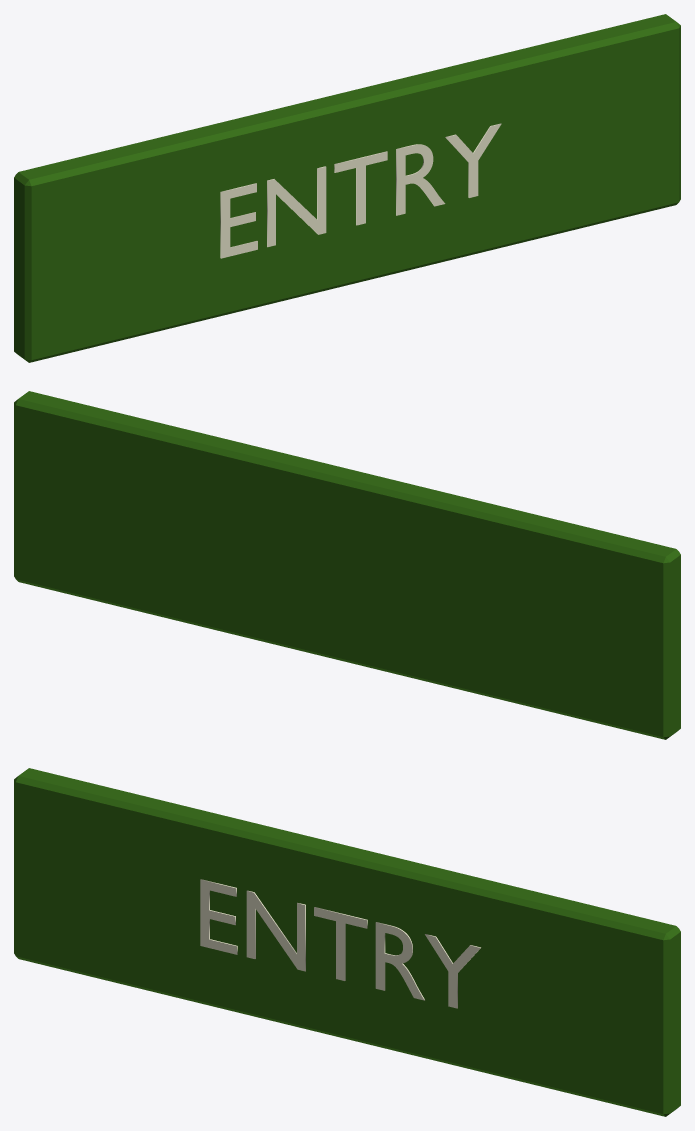
Rendered from EntrySign.fbx.
The picture shows the model from 3 angles, top to bottom: view 1: azimuth 30°, elevation 25°; view 2: azimuth 150°, elevation 25°; view 3: azimuth 330°, elevation 25°; orthographic projection.
Visible parts, largest first — view 1: EntrySign; view 2: EntrySign; view 3: EntrySign.
Boxes of the visible parts, <box> form: EntrySign: <box>14,14,680,362</box>; EntrySign: <box>14,391,680,739</box>; EntrySign: <box>14,768,680,1116</box>.
Size of the model in its own units: 120 by 32 by 5.8.
1 material, 1 textured.
